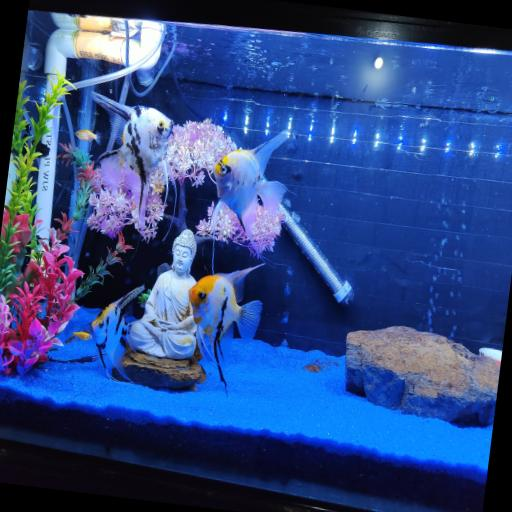Fish: (90, 92, 175, 230), (210, 130, 287, 253), (188, 264, 262, 391), (91, 286, 143, 380), (75, 130, 100, 144), (72, 331, 91, 341)
